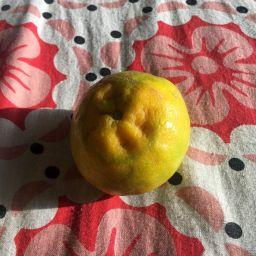Ripe: (70, 71, 187, 195)
